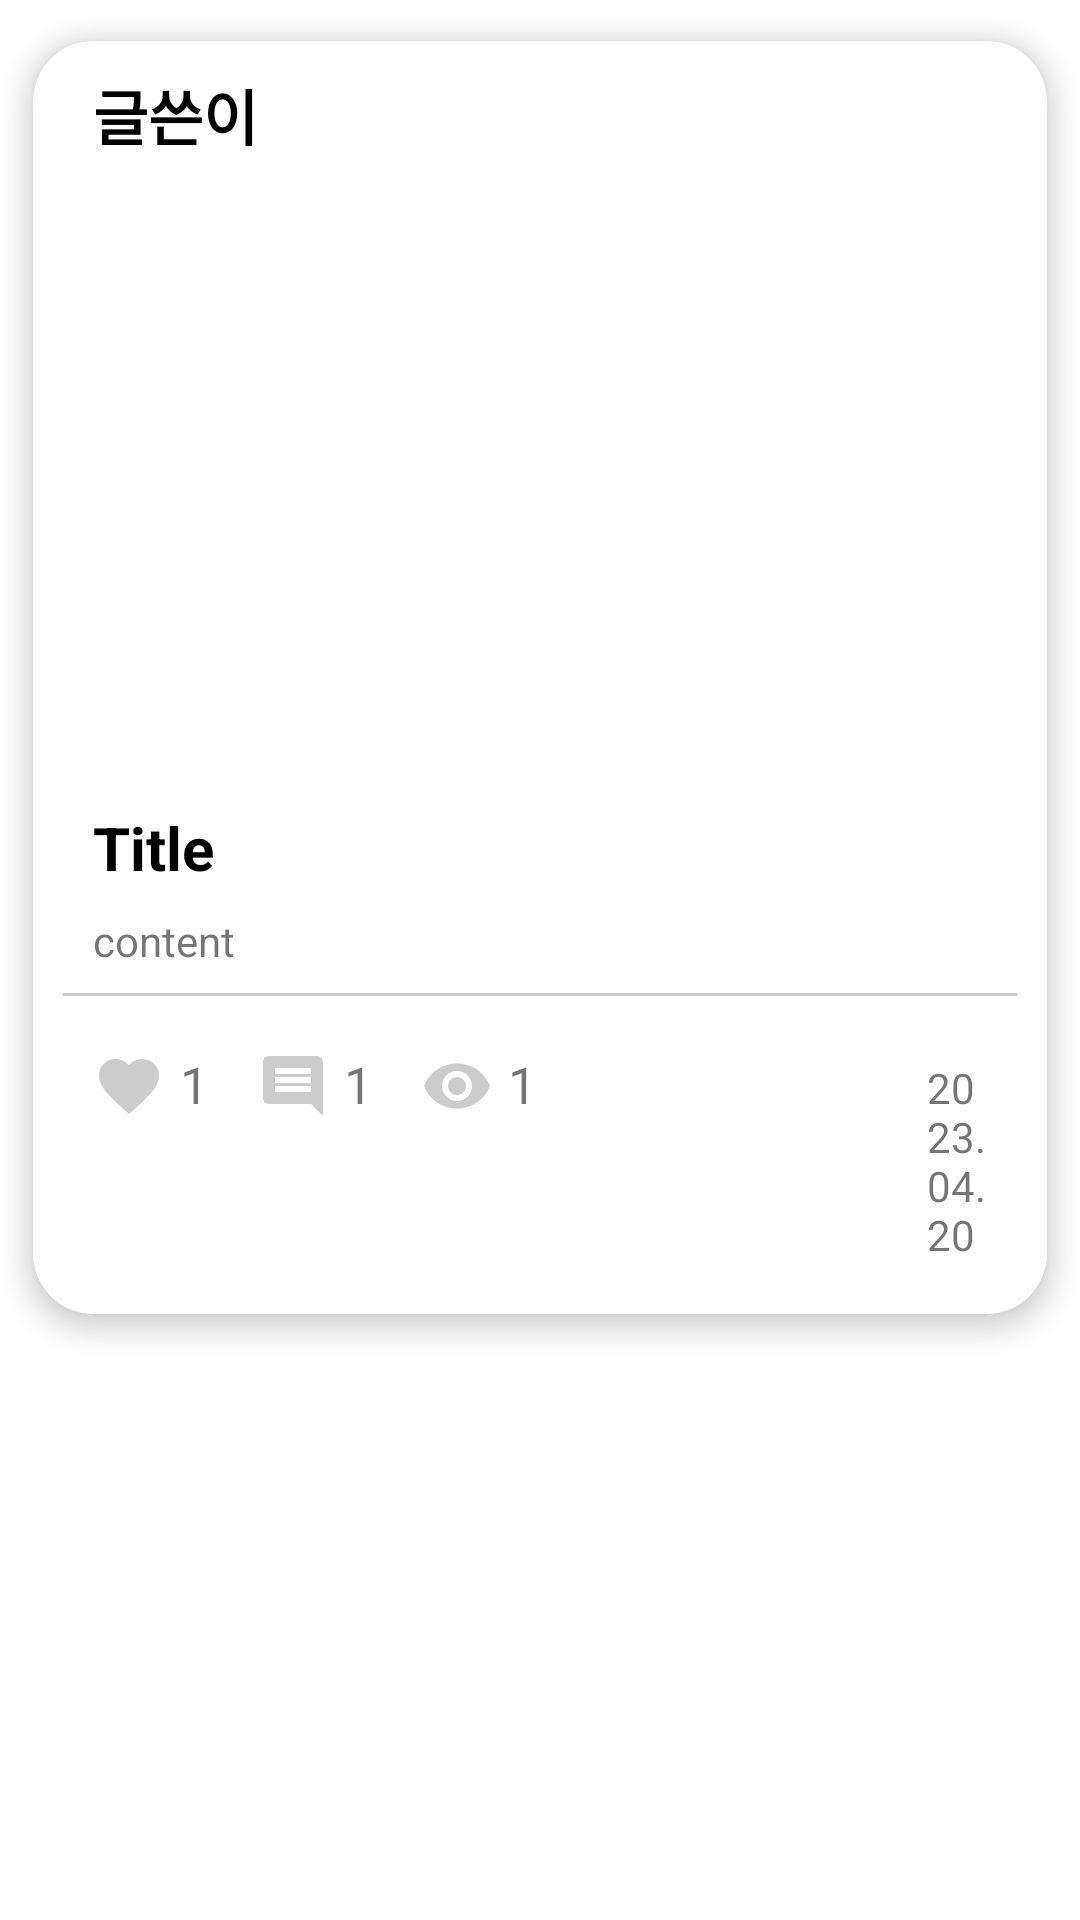

Locate icon controls on the screen. Image size 1080 x 1920, boxes as (x1, y1, x2, y2).
comment: (263, 1056, 323, 1115)
eye: (424, 1063, 490, 1109)
favorite: (99, 1059, 159, 1114)
